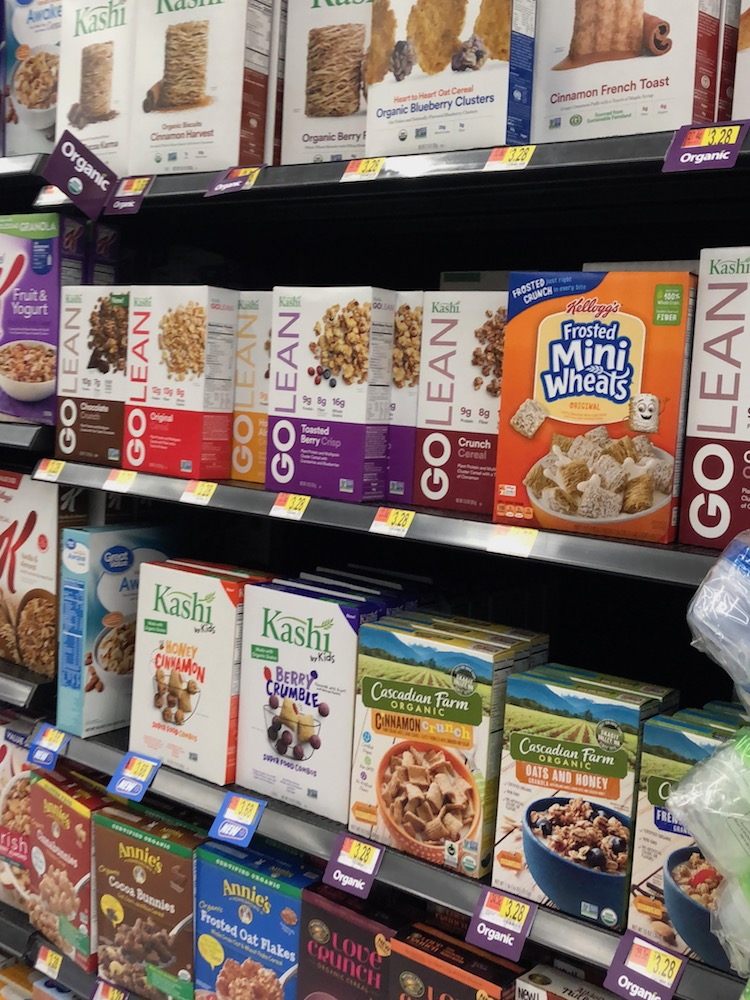Frosted Mini Original -9295869: (497, 272, 677, 541)
